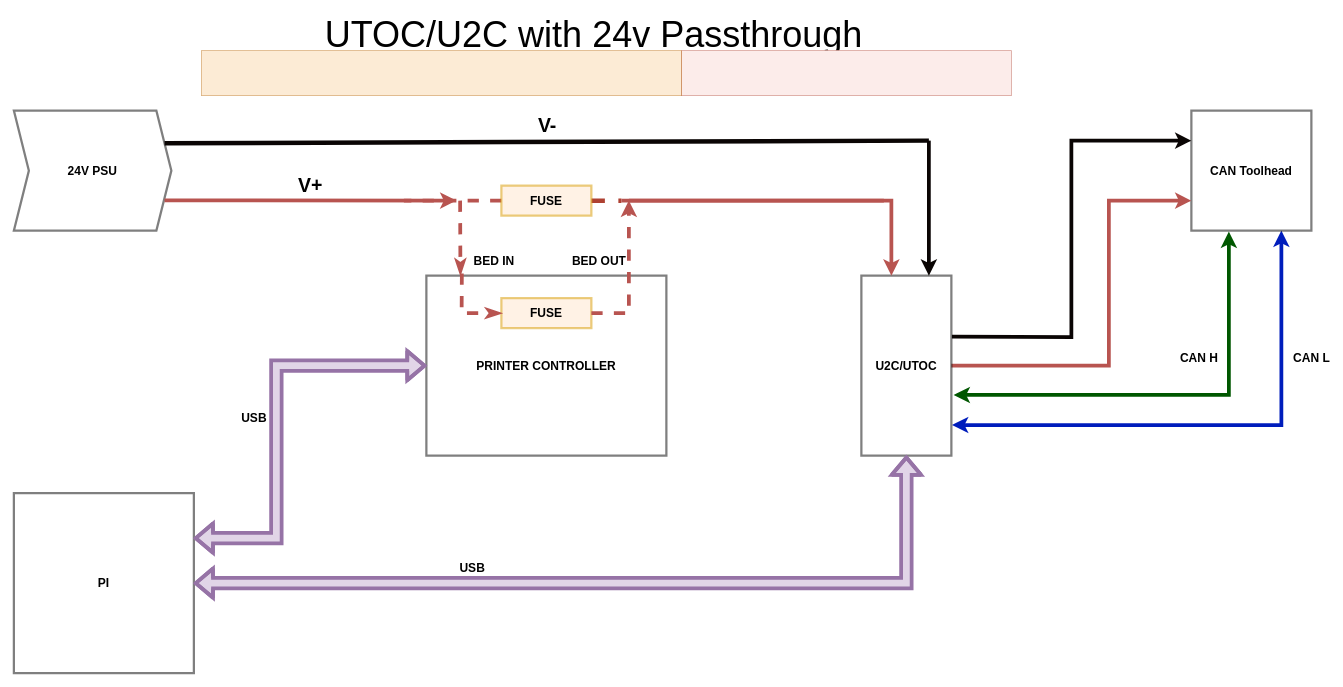
The diagram is 1343 pixels wide and 687 high, and some of its shapes have lost their labels. Here are the shapes that lost their labels. From the top down, the centre of each, then its label:
At point (441, 73): "It is recommended to fuse your 24v line for extra safety".
At point (846, 73): "- - - - Optional Routing via Bed Fuse".
